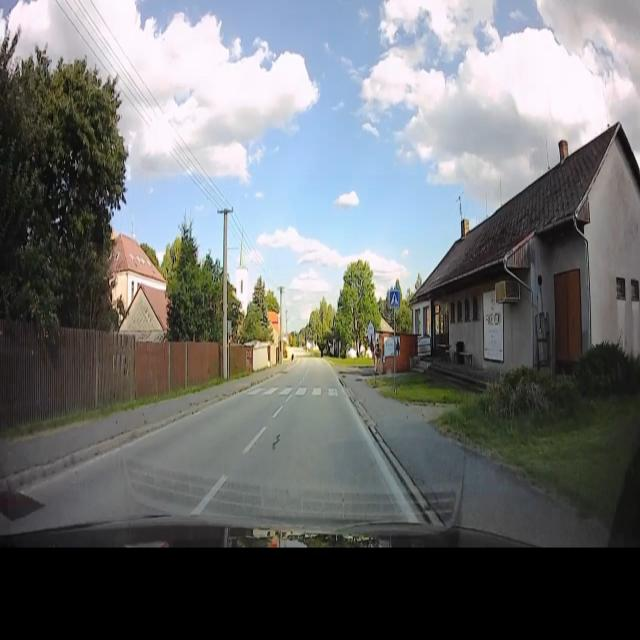Pedestrian crosswalk: (247, 384, 344, 400), (388, 288, 401, 310)
